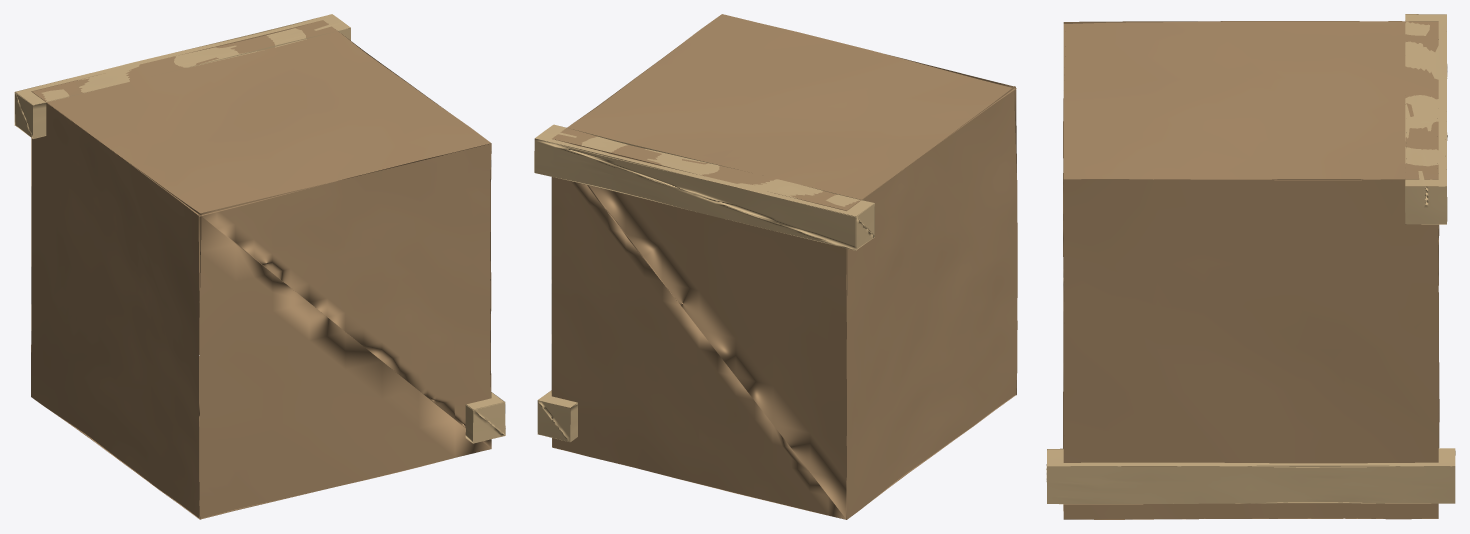
The model's file is crate.glb.
The picture shows the model from 3 angles, left to right: view 1: azimuth 30°, elevation 25°; view 2: azimuth 150°, elevation 25°; view 3: azimuth 270°, elevation 25°; orthographic projection. The views are drawn at different scales.
Visible parts, largest first — view 1: Crate; view 2: Crate; view 3: Crate.
Boxes of the visible parts, x1,y1,x2,y2 form: Crate: (14,14,505,519); Crate: (534,14,1017,519); Crate: (1046,14,1455,519).
Size of the model in its own units: 0.9824 by 0.9091 by 0.9819.
